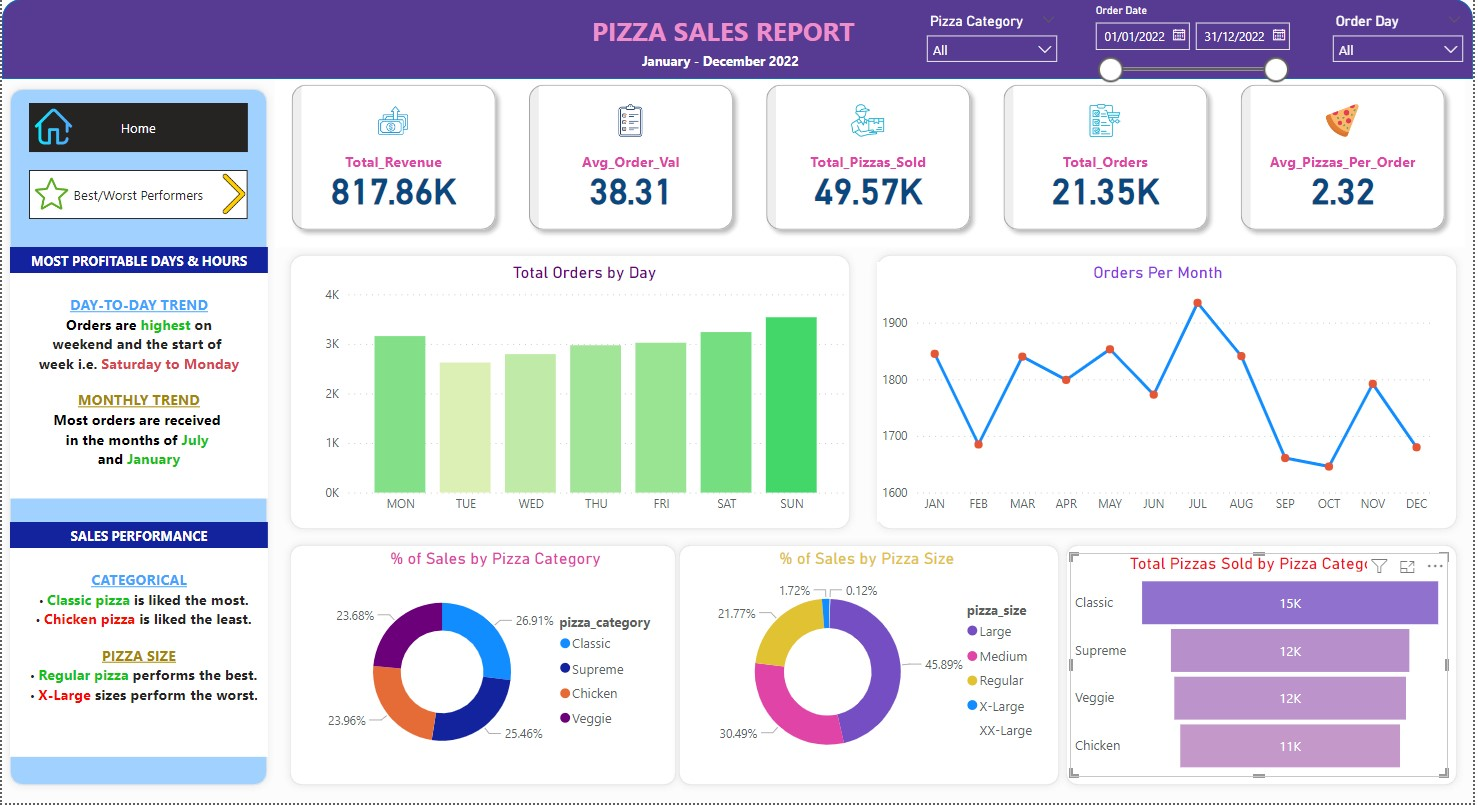

The page's visual inventory and layout, read from the dashboard file:
{"tool":"powerbi","page":{"name":"Home","canvas":[1500,820],"ordinal":0},"visuals":[{"type":"cardVisual","fields":{"Data":["pizza_sales.Total_Revenue","pizza_sales.Avg_Order_Val","pizza_sales.Total_Pizzas_Sold","pizza_sales.Total_Orders","pizza_sales.Avg_Pizzas_Per_Order"]},"box":[278.4,70.4,1213.7,182.6],"z":0},{"type":"shape","box":[0,0,1500.3,81.6],"z":1000},{"type":"textbox","box":[596.6,9.2,287.6,47.9],"z":2000},{"type":"textbox","box":[647.6,49,184.6,26.5],"z":3000},{"type":"shape","box":[285.6,252.9,587.5,295.8],"z":4000},{"type":"columnChart","title":"Total Orders by Day","fields":{"Y":["pizza_sales.Total_Orders"],"Category":["pizza_sales.order_day"]},"box":[324.3,268.2,539.5,265.2],"z":5000},{"type":"shape","box":[884.3,252.9,607.9,295.8],"z":6000},{"type":"lineChart","title":"Orders Per Month","fields":{"Y":["pizza_sales.Total_Orders"],"Category":["pizza_sales.order_month"]},"box":[892.4,268.2,573.2,265.2],"z":7000},{"type":"shape","box":[285.6,548.7,410,261.1],"z":8000},{"type":"shape","box":[1077,548.7,415.1,261.1],"z":9000},{"type":"shape","box":[682.3,548.7,403.9,261.1],"z":10000},{"type":"donutChart","title":"% of Sales by Pizza Category","fields":{"Category":["pizza_sales.pizza_category"],"Y":["pizza_sales.Total_Revenue"]},"box":[324.3,559.9,358,233.6],"z":11000},{"type":"donutChart","title":"% of Sales by Pizza Size","fields":{"Y":["pizza_sales.Total_Revenue"],"Category":["pizza_sales.pizza_size"]},"box":[695.6,559.9,373.3,233.6],"z":12000},{"type":"funnel","title":"Total Pizzas Sold by Pizza Category","fields":{"Y":["pizza_sales.Total_Pizzas_Sold"],"Category":["pizza_sales.pizza_category"]},"box":[1089.3,565,385.5,228.5],"z":13000},{"type":"shape","box":[0,83.6,278.4,726.2],"z":14000},{"type":"textbox","box":[8.2,252.9,263.1,26.5],"z":15000},{"type":"textbox","box":[8.2,279.5,263.1,230.5],"z":16000},{"type":"textbox","box":[8.2,533.4,263.1,26.5],"z":17000},{"type":"textbox","box":[8.2,559.9,263.1,213.2],"z":18000},{"type":"slicer","fields":{"Values":["pizza_sales.pizza_category"]},"box":[933.2,9.2,153,66.3],"z":19000},{"type":"slicer","fields":{"Values":["pizza_sales.order_date"]},"box":[1102.5,0,218.3,106.1],"z":20000},{"type":"slicer","fields":{"Values":["pizza_sales.day_name"]},"box":[1347.3,9.2,153,66.3],"z":21000},{"type":"pageNavigator","box":[27.3,105.9,223.2,50.1],"z":22000},{"type":"pageNavigator","box":[27.3,174.3,223.2,50.1],"z":23000},{"type":"image","box":[27.5,106.1,49,47.9],"z":24000},{"type":"image","box":[211.1,171.3,51,54.1],"z":25000},{"type":"image","box":[27.5,176.4,44.9,43.9],"z":26000}]}

Visuals, with their boxes in screenshot pixels (x1, y1, x2, y2), scaled from the page's 1500x820 canvas onto the 1478x805 screenshot:
cardVisual - pizza_sales.Total_Revenue x pizza_sales.Avg_Order_Val: {"x1": 274, "y1": 69, "x2": 1470, "y2": 248}
shape: {"x1": 0, "y1": 0, "x2": 1477, "y2": 80}
textbox: {"x1": 588, "y1": 9, "x2": 871, "y2": 56}
textbox: {"x1": 638, "y1": 48, "x2": 820, "y2": 74}
shape: {"x1": 281, "y1": 248, "x2": 860, "y2": 539}
"Total Orders by Day" columnChart: {"x1": 320, "y1": 263, "x2": 851, "y2": 524}
shape: {"x1": 871, "y1": 248, "x2": 1470, "y2": 539}
"Orders Per Month" lineChart: {"x1": 879, "y1": 263, "x2": 1444, "y2": 524}
shape: {"x1": 281, "y1": 539, "x2": 685, "y2": 795}
shape: {"x1": 1061, "y1": 539, "x2": 1470, "y2": 795}
shape: {"x1": 672, "y1": 539, "x2": 1070, "y2": 795}
"% of Sales by Pizza Category" donutChart: {"x1": 320, "y1": 550, "x2": 672, "y2": 779}
"% of Sales by Pizza Size" donutChart: {"x1": 685, "y1": 550, "x2": 1053, "y2": 779}
"Total Pizzas Sold by Pizza Category" funnel: {"x1": 1073, "y1": 555, "x2": 1453, "y2": 779}
shape: {"x1": 0, "y1": 82, "x2": 274, "y2": 795}
textbox: {"x1": 8, "y1": 248, "x2": 267, "y2": 274}
textbox: {"x1": 8, "y1": 274, "x2": 267, "y2": 501}
textbox: {"x1": 8, "y1": 524, "x2": 267, "y2": 550}
textbox: {"x1": 8, "y1": 550, "x2": 267, "y2": 759}
slicer - pizza_sales.pizza_category: {"x1": 920, "y1": 9, "x2": 1070, "y2": 74}
slicer - pizza_sales.order_date: {"x1": 1086, "y1": 0, "x2": 1301, "y2": 104}
slicer - pizza_sales.day_name: {"x1": 1328, "y1": 9, "x2": 1477, "y2": 74}
pageNavigator: {"x1": 27, "y1": 104, "x2": 247, "y2": 153}
pageNavigator: {"x1": 27, "y1": 171, "x2": 247, "y2": 220}
image: {"x1": 27, "y1": 104, "x2": 75, "y2": 151}
image: {"x1": 208, "y1": 168, "x2": 258, "y2": 221}
image: {"x1": 27, "y1": 173, "x2": 71, "y2": 216}
